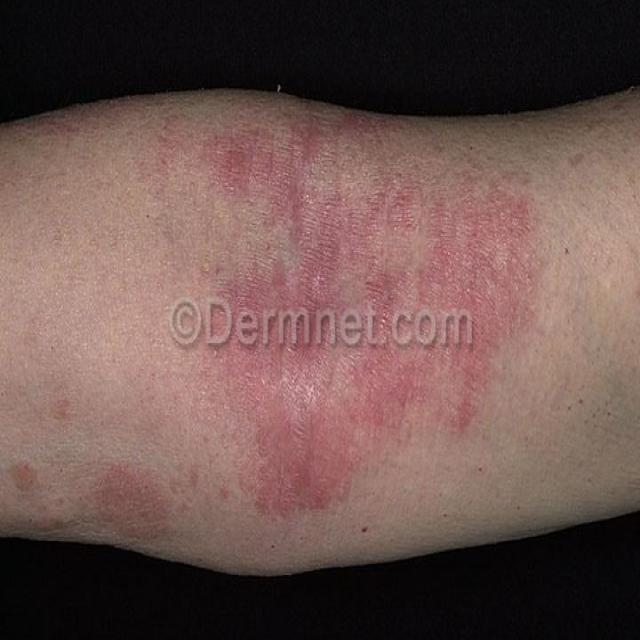Eczema: (183, 110, 522, 515)
